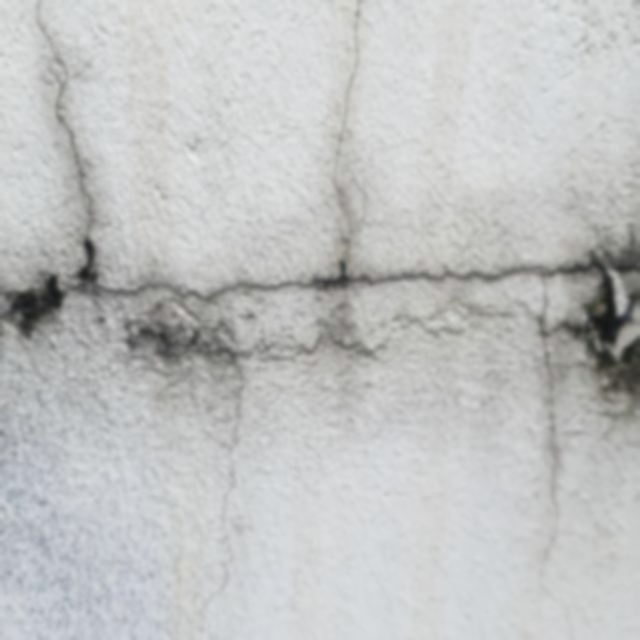SurfaceCrack: (191, 3, 414, 405), (2, 0, 122, 421)
